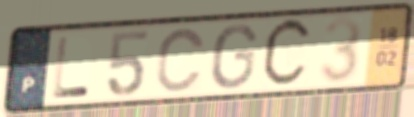3: (317, 13, 365, 88)
5: (105, 27, 150, 99)
C: (258, 14, 315, 93), (154, 26, 208, 95)
G: (208, 22, 259, 91)
L: (51, 35, 93, 101)
